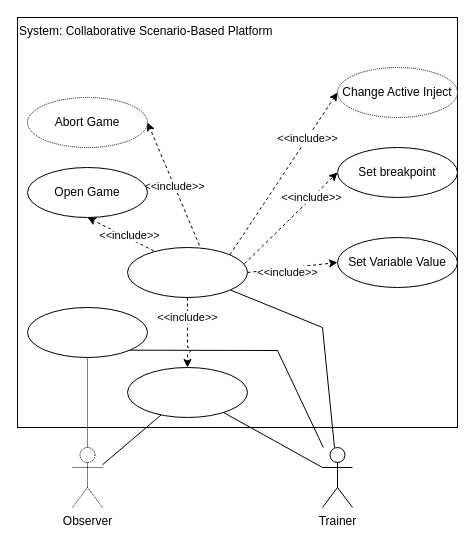
This 475x546 diagram has some shape labels left out. Each missing label, with the box of its shape:
Evaluate a Group Game: (26, 306, 148, 358)
Facilitate a Group Game: (126, 246, 248, 298)
Observe a Group Game: (126, 366, 248, 418)
